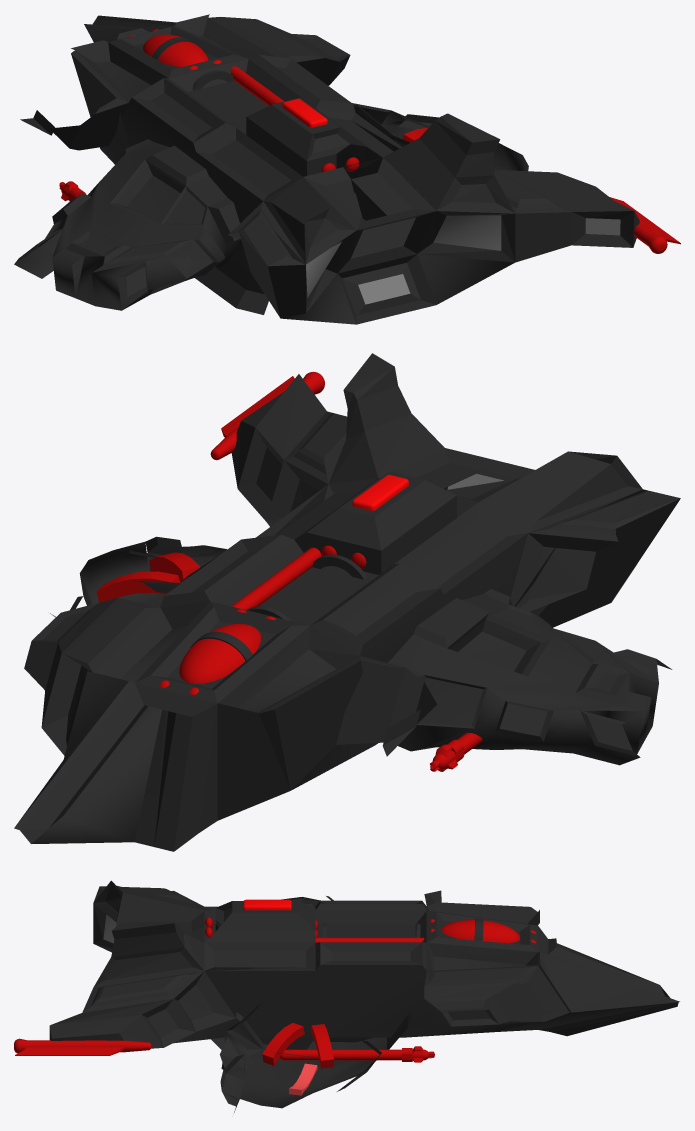
The model's file is EpaveLong.fbx.
The picture shows the model from 3 angles, top to bottom: view 1: azimuth 30°, elevation 25°; view 2: azimuth 150°, elevation 25°; view 3: azimuth 270°, elevation 25°; orthographic projection. The views are drawn at different scales.
Parts seen in each view (by area): view 1: Box002.002; view 2: Box002.002; view 3: Box002.002.
Boxes of the visible parts, x1,y1,x2,y2 form: Box002.002: [14, 14, 680, 324]; Box002.002: [14, 353, 680, 851]; Box002.002: [14, 880, 679, 1112].
Size of the model in its own units: 1.94 by 2.81 by 0.7087.
